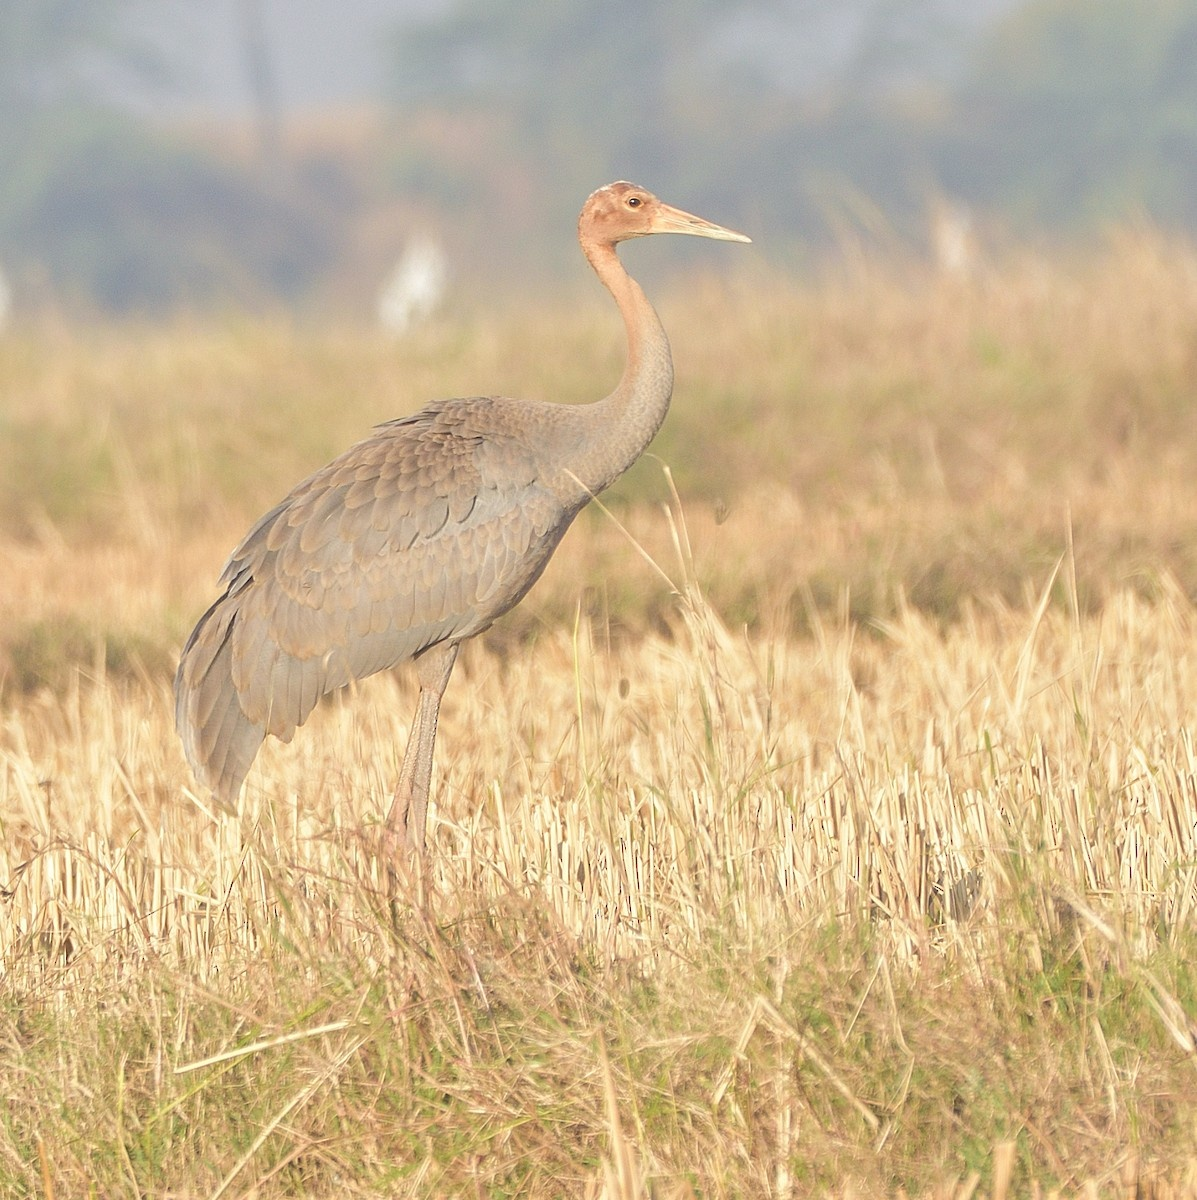crane: (195, 162, 797, 935)
